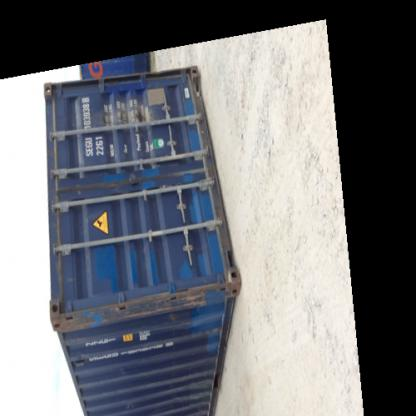Damage: (50, 288, 210, 334)
